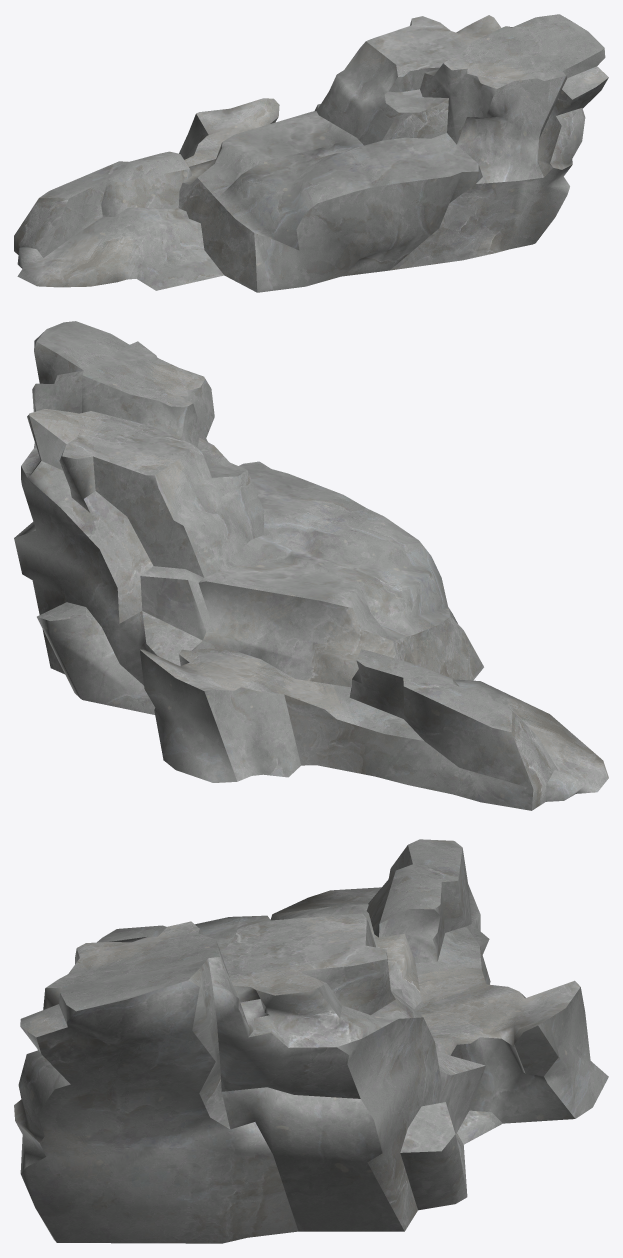
File: SM_Com_Roc_26AS.fbx
The picture shows the model from 3 angles, top to bottom: view 1: azimuth 30°, elevation 25°; view 2: azimuth 150°, elevation 25°; view 3: azimuth 270°, elevation 25°; orthographic projection. The views are drawn at different scales.
Parts seen in each view (by area): view 1: SM_Com_Roc_26AS.mo; view 2: SM_Com_Roc_26AS.mo; view 3: SM_Com_Roc_26AS.mo.
Boxes of the visible parts, bbox=[...] form: SM_Com_Roc_26AS.mo: bbox=[14, 14, 608, 292]; SM_Com_Roc_26AS.mo: bbox=[14, 321, 608, 810]; SM_Com_Roc_26AS.mo: bbox=[14, 839, 608, 1243].
Size of the model in its own units: 21.99 by 7.86 by 13.43.
